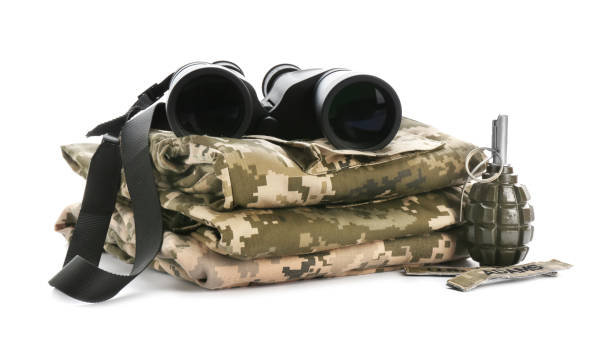e1: (456, 115, 534, 265)
